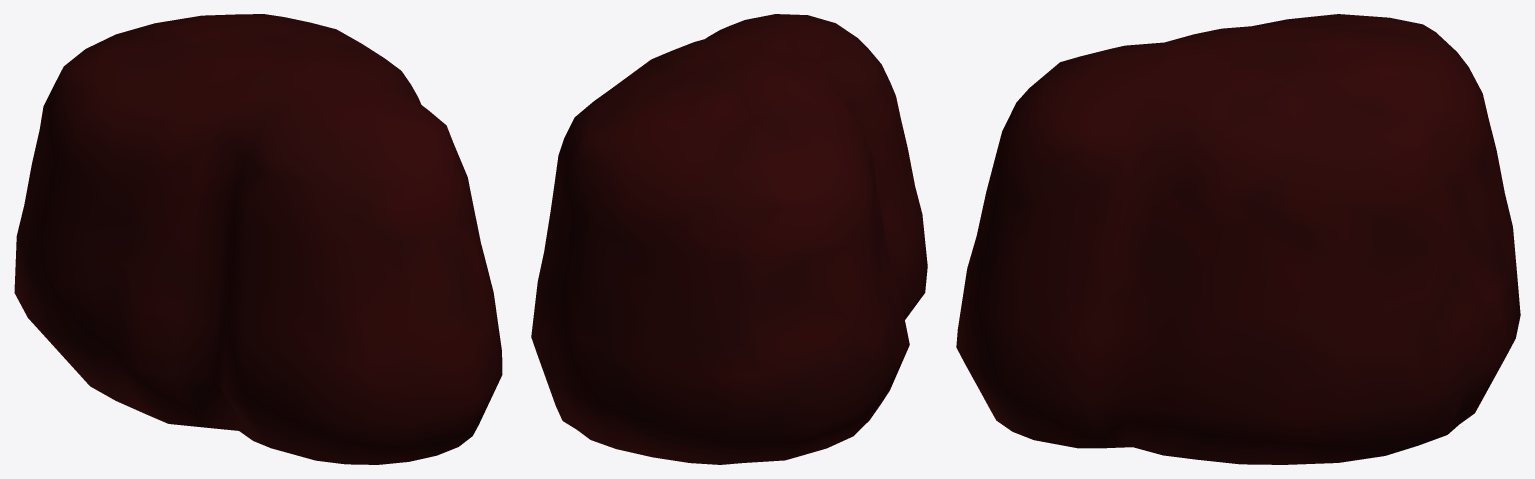
File: geology-landforms-greenhilltiny_v2.fbx
The picture shows the model from 3 angles, left to right: view 1: azimuth 30°, elevation 25°; view 2: azimuth 150°, elevation 25°; view 3: azimuth 270°, elevation 25°; orthographic projection. The views are drawn at different scales.
Visible parts, largest first — view 1: GreenHillTiny_v2; view 2: GreenHillTiny_v2; view 3: GreenHillTiny_v2.
Boxes of the visible parts, bbox=[...] form: GreenHillTiny_v2: bbox=[14, 14, 502, 464]; GreenHillTiny_v2: bbox=[531, 14, 927, 464]; GreenHillTiny_v2: bbox=[956, 14, 1520, 464].
Bounding box in the file's own units: 17.85 × 15.3 × 23.08.
